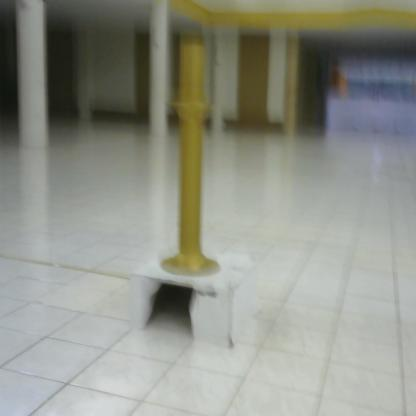pole: (159, 40, 237, 281)
